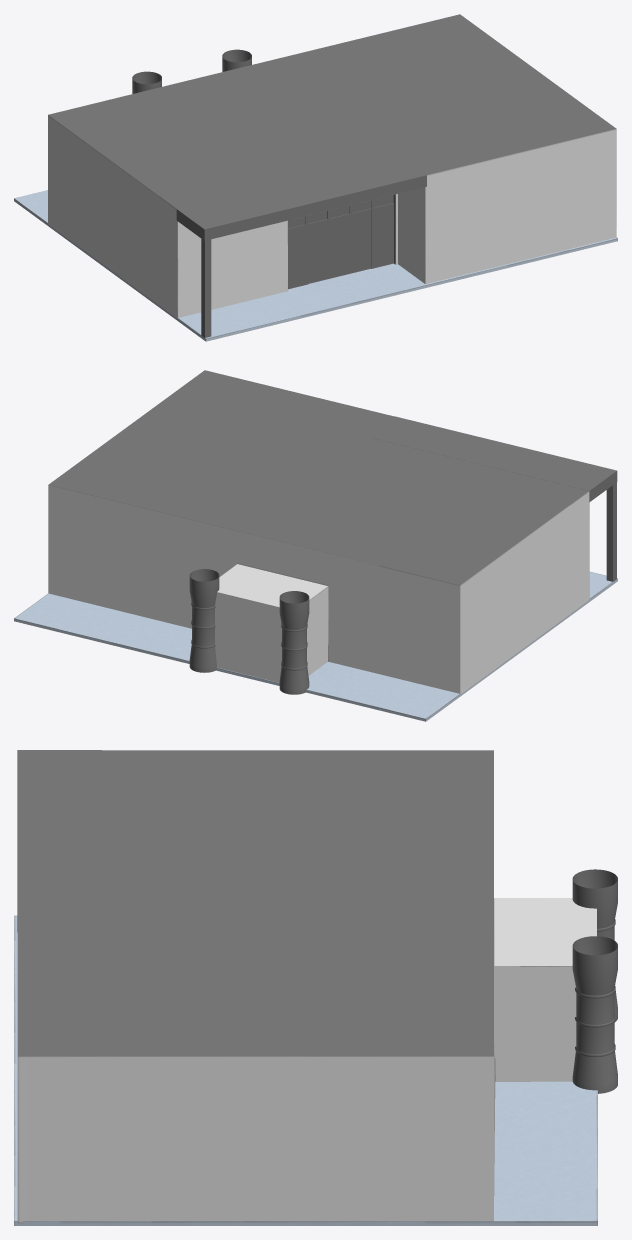
The model's file is PruebaCIS.fbx.
3 renders of one model, top to bottom at view 1: azimuth 30°, elevation 25°; view 2: azimuth 150°, elevation 25°; view 3: azimuth 270°, elevation 25°, orthographic. The views are drawn at different scales.
Visible parts, largest first — view 1: Piso_y_Techo, Estructura; view 2: Piso_y_Techo, Estructura; view 3: Piso_y_Techo, Estructura.
Boxes of the visible parts, box(x1,y1,x2,y2) form: Piso_y_Techo: box(14, 14, 617, 341); Estructura: box(48, 49, 616, 318); Piso_y_Techo: box(14, 370, 617, 721); Estructura: box(48, 485, 589, 694); Piso_y_Techo: box(14, 750, 597, 1225); Estructura: box(17, 869, 617, 1223).
Bounding box in the file's own units: 15.01 × 3.88 × 12.52.
2 materials, 2 textured.
